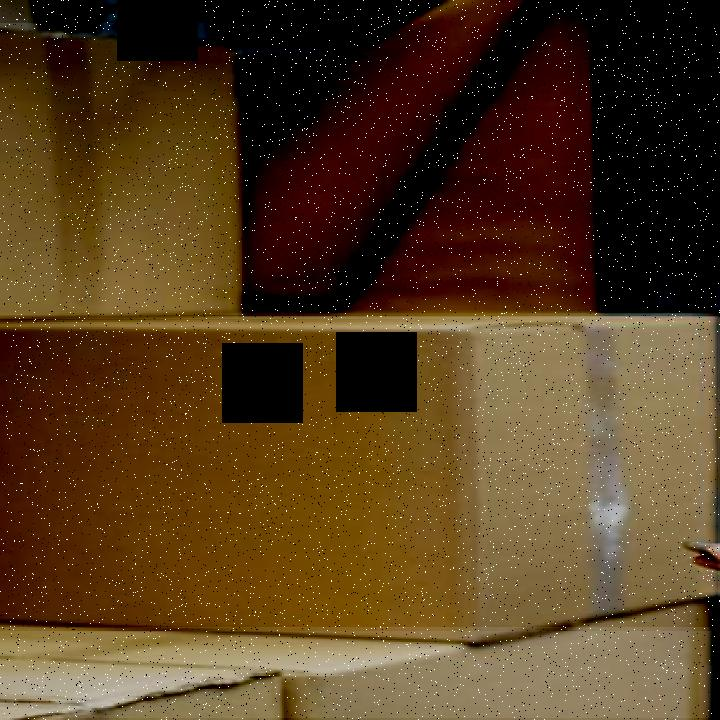box: (0, 319, 718, 627), (0, 23, 242, 315), (0, 631, 718, 718)
